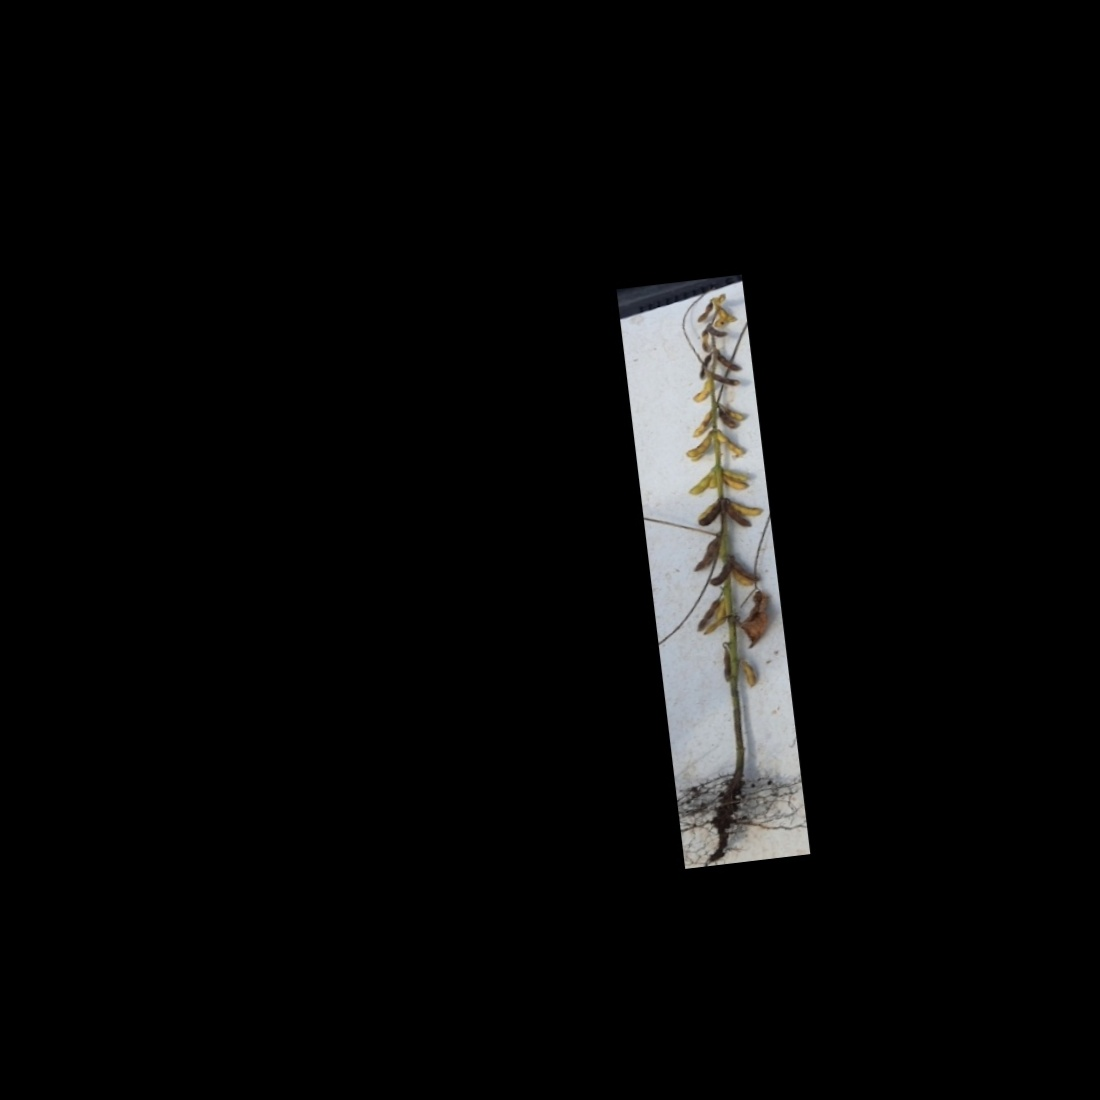pod: (688, 537, 722, 575), (688, 599, 721, 633), (715, 346, 745, 375), (694, 351, 715, 382), (711, 369, 743, 389), (741, 659, 760, 691), (701, 616, 727, 638), (692, 301, 714, 324)
soy: (631, 287, 800, 848)
